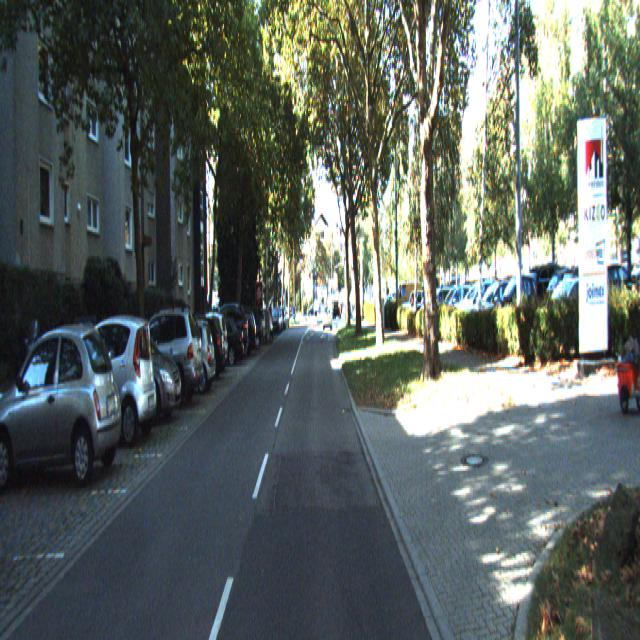Car: (0, 321, 123, 493), (52, 309, 160, 445), (87, 316, 183, 425), (120, 298, 205, 405), (151, 311, 217, 394), (167, 310, 224, 376), (184, 307, 228, 377), (198, 314, 244, 367), (209, 297, 248, 357), (218, 304, 257, 356), (226, 304, 263, 352)
